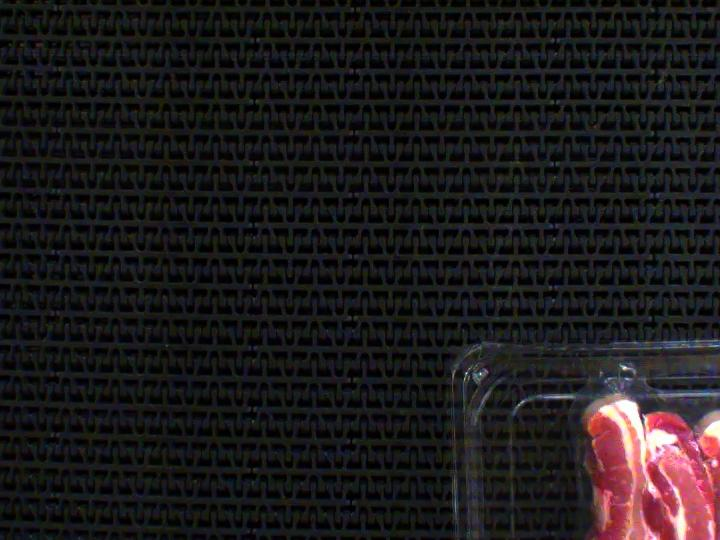unsealed: (547, 337, 720, 515)
